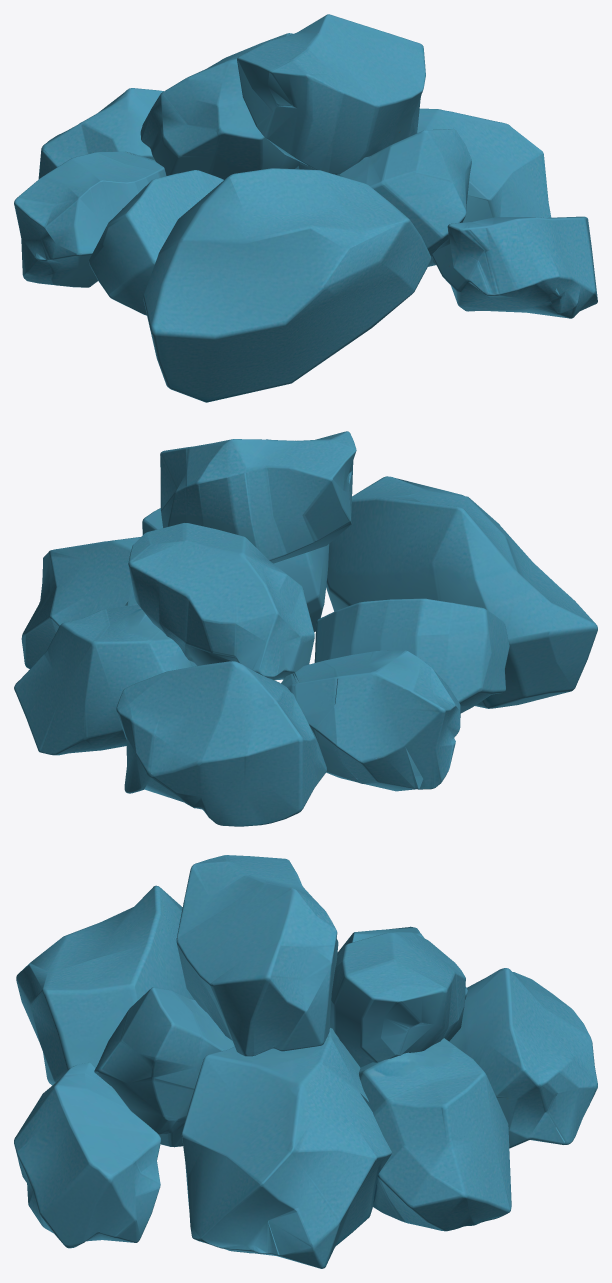
Rendered from SM_Cargo_A_BlueIce_Heap.glb.
3 renders of one model, top to bottom at view 1: azimuth 30°, elevation 25°; view 2: azimuth 150°, elevation 25°; view 3: azimuth 270°, elevation 25°, orthographic. The views are drawn at different scales.
Visible parts, largest first — view 1: tripo_node_595cbf0a; view 2: tripo_node_595cbf0a; view 3: tripo_node_595cbf0a.
Part boxes in pixels (x1,y1,x2,y2): tripo_node_595cbf0a: [14, 14, 597, 402]; tripo_node_595cbf0a: [14, 431, 597, 826]; tripo_node_595cbf0a: [14, 855, 597, 1268].
Size of the model in its own units: 0.9966 by 0.5483 by 0.9995.
1 material, 1 textured.
